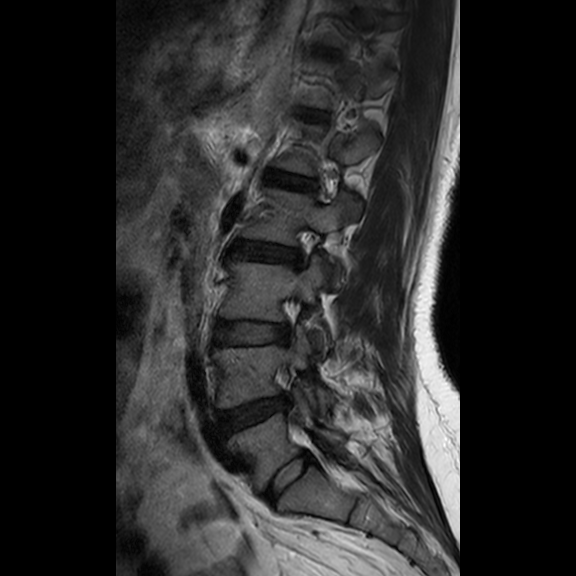LFS0: (265, 288, 315, 357), (277, 219, 328, 285)
